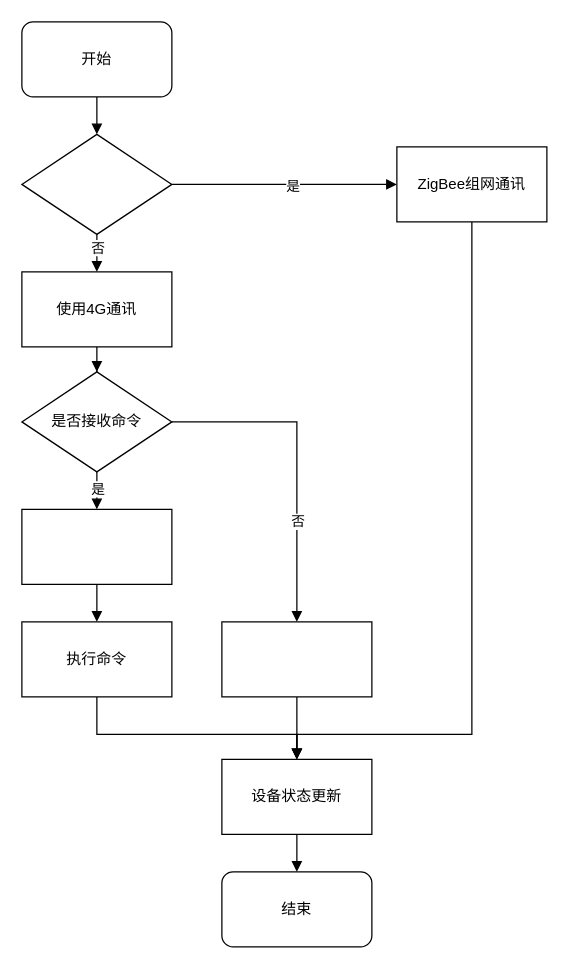
Some shapes in this 569 by 969 pixel diagram are drawn without their labels. Here are the shapes that lost their labels. From the top down, the centre of each, then its label:
point 96,183: 是否在ZigBee 组网范围内
point 96,546: 接收4G命令
point 296,659: 4G组网通讯
